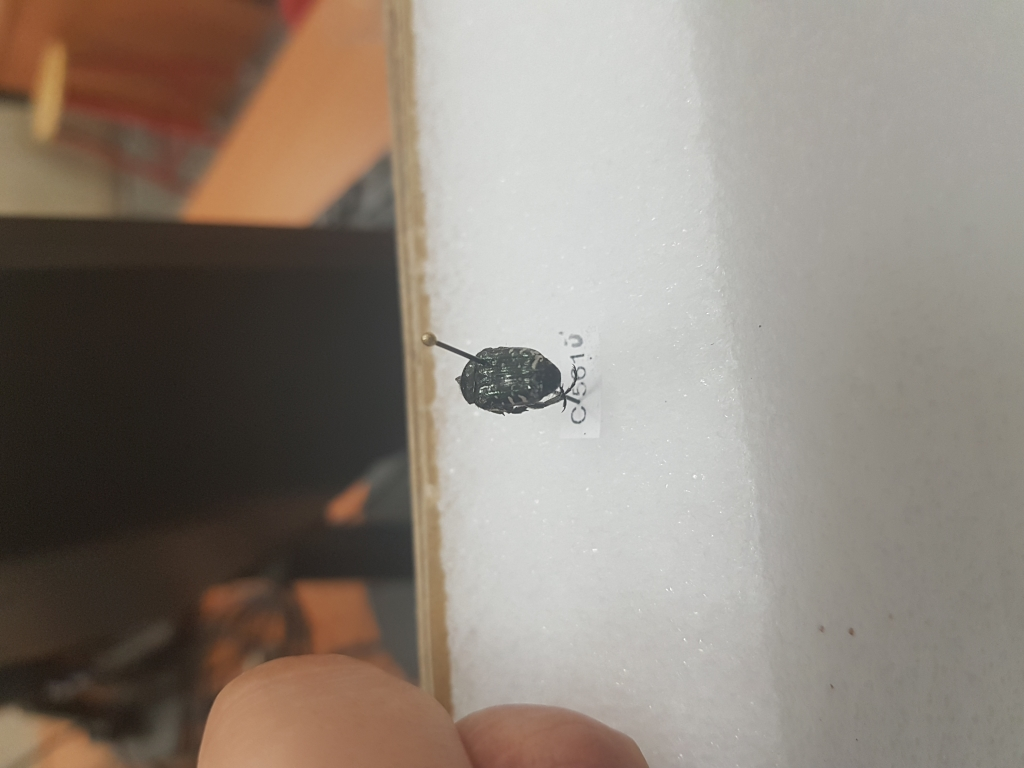Oxythyrea_albopicta: (458, 344, 580, 423)
